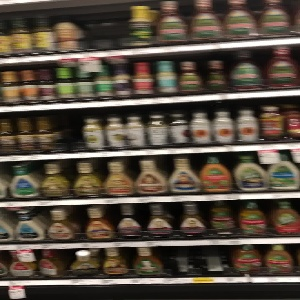void: (75, 4, 123, 48), (162, 248, 230, 275), (58, 112, 84, 151)
